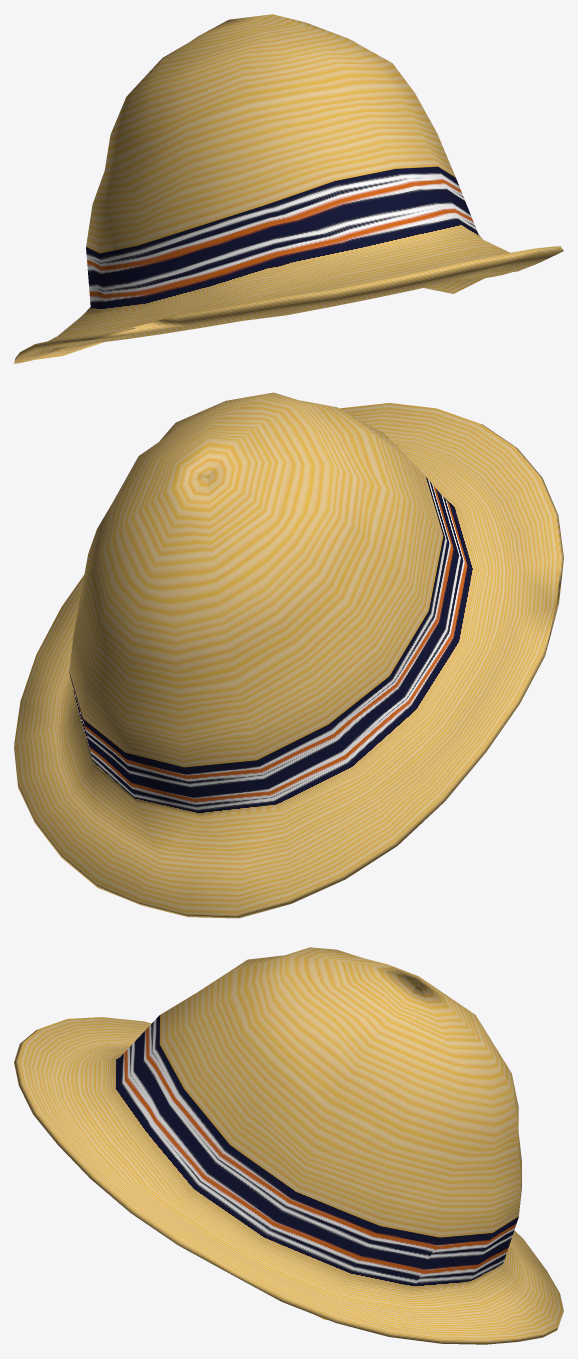
The model's file is strohhut.fbx.
3 views of the same model, one above another, from view 1: azimuth 30°, elevation 25°; view 2: azimuth 150°, elevation 25°; view 3: azimuth 270°, elevation 25° (orthographic). The views are drawn at different scales.
Parts seen in each view (by area): view 1: Strohhut; view 2: Strohhut; view 3: Strohhut.
Part boxes in pixels (bbox=[...]): Strohhut: bbox=[14, 14, 563, 363]; Strohhut: bbox=[14, 392, 563, 918]; Strohhut: bbox=[14, 947, 563, 1344].
Bounding box in the file's own units: 38.08 × 30.89 × 42.94.
